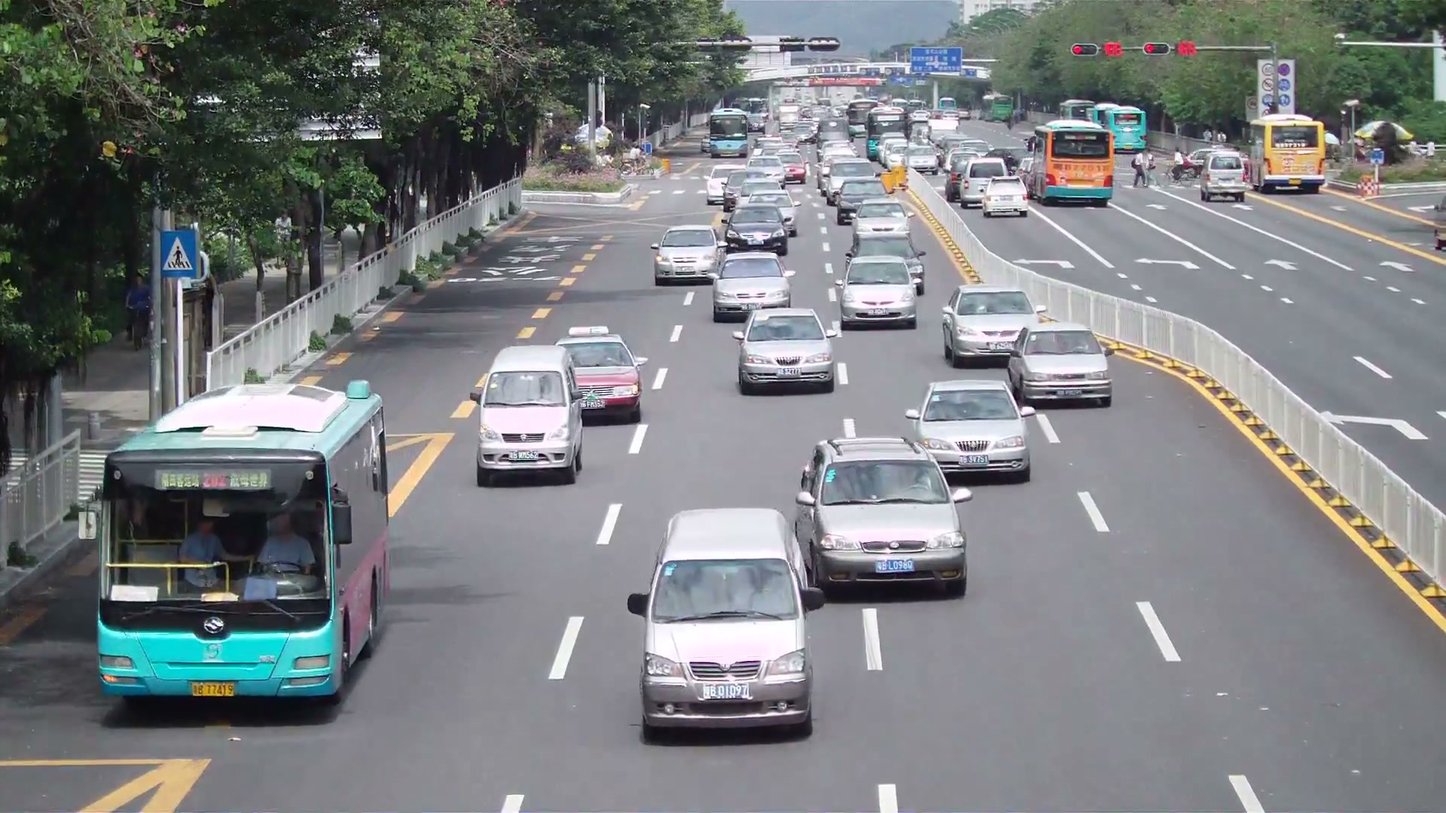bus: (93, 377, 393, 704), (1028, 119, 1115, 207)
car: (631, 506, 820, 743), (794, 436, 970, 600), (474, 344, 586, 487), (901, 376, 1034, 483), (735, 306, 837, 396), (1005, 324, 1113, 409), (938, 283, 1045, 368), (558, 330, 642, 423), (839, 254, 921, 328), (711, 250, 794, 323), (653, 225, 723, 284), (850, 200, 914, 258), (725, 205, 791, 254), (980, 178, 1030, 217)
pedestrian: (257, 512, 316, 574), (179, 516, 226, 574)
truck: (1022, 121, 1114, 206), (1244, 114, 1328, 193), (1196, 148, 1250, 202)
